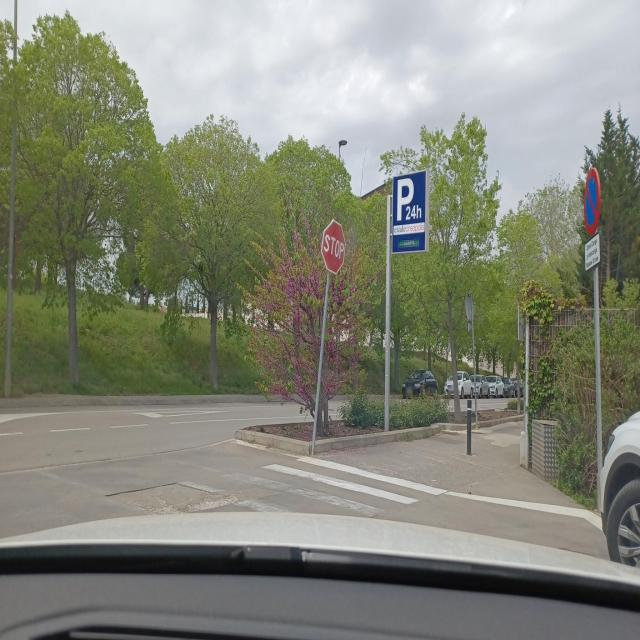forb_stopping: (584, 167, 601, 236)
